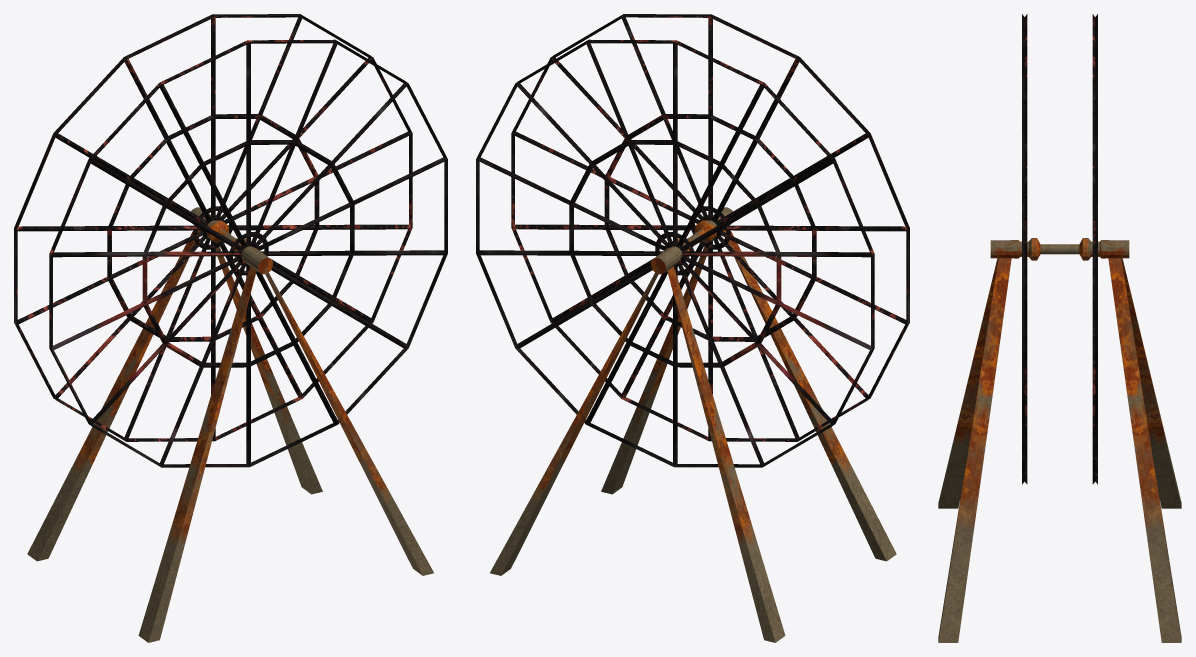
File: Estrutura.fbx
The picture shows the model from 3 angles, left to right: view 1: azimuth 30°, elevation 25°; view 2: azimuth 150°, elevation 25°; view 3: azimuth 270°, elevation 25°; orthographic projection.
Visible parts, largest first — view 1: RG, PernasDaRG; view 2: RG, PernasDaRG; view 3: PernasDaRG, RG.
Boxes of the visible parts, bbox=[...] form: RG: bbox=[14, 14, 447, 467]; PernasDaRG: bbox=[27, 207, 433, 642]; RG: bbox=[476, 14, 909, 467]; PernasDaRG: bbox=[490, 207, 896, 642]; PernasDaRG: bbox=[938, 238, 1181, 642]; RG: bbox=[1022, 14, 1097, 484].
Bounding box in the file's own units: 1742 × 2250 × 924.
2 materials, 2 textured.
